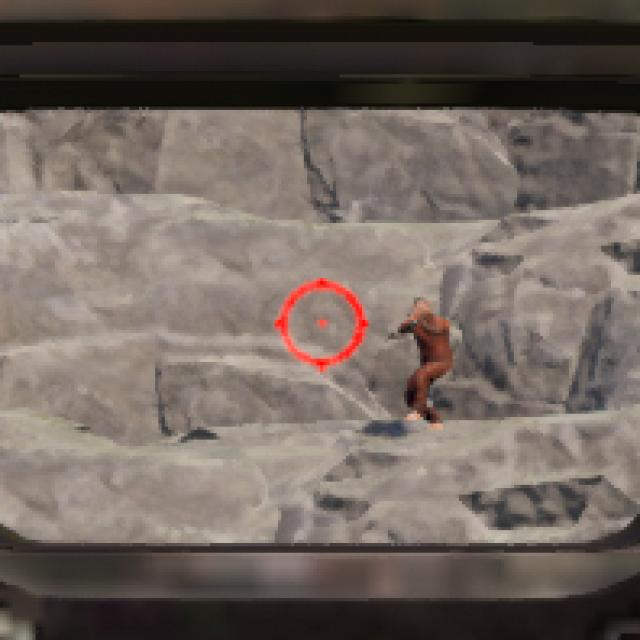Player: (394, 299, 456, 420)
